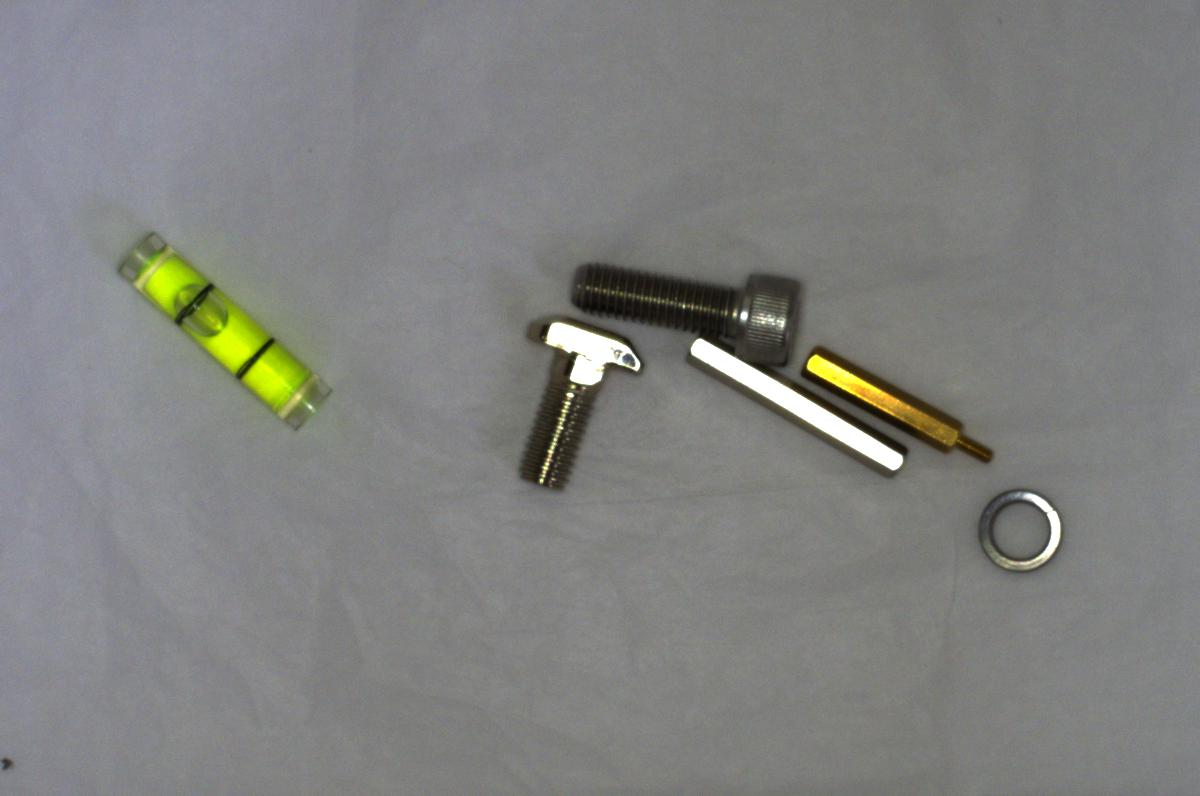Double hexagonal column: (680, 334, 904, 481)
Hexagon pillar: (790, 341, 997, 476)
Hexagon screw: (572, 255, 811, 373)
Horizontal bubble: (115, 229, 331, 428)
Spring washer: (968, 478, 1070, 587)
T-shaped screw: (505, 301, 644, 499)
